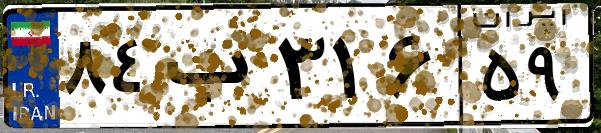1: (330, 28, 385, 110)
3: (270, 28, 330, 110)
4: (110, 28, 158, 98)
5: (475, 38, 525, 113)
6: (385, 28, 445, 110)
8: (57, 26, 110, 100)
9: (525, 38, 570, 115)
ب: (158, 20, 270, 120)
